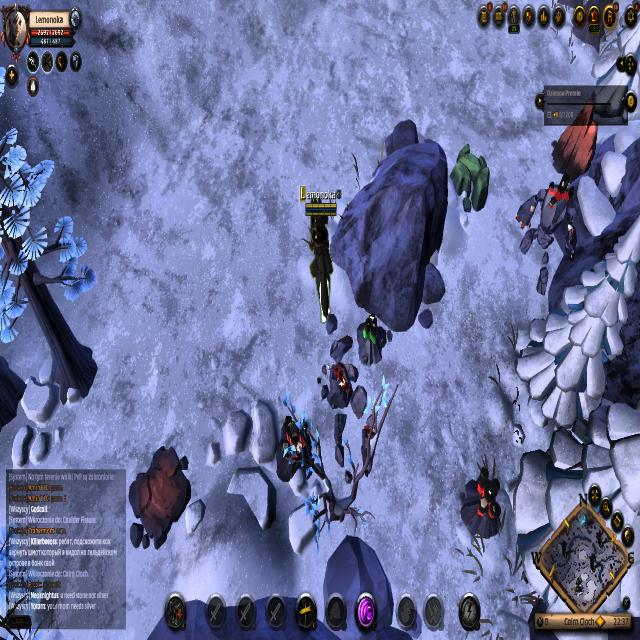ore tier 3: (355, 311, 387, 367)
ore tier 5: (459, 465, 503, 538)
rock tier 3: (451, 138, 492, 218)
